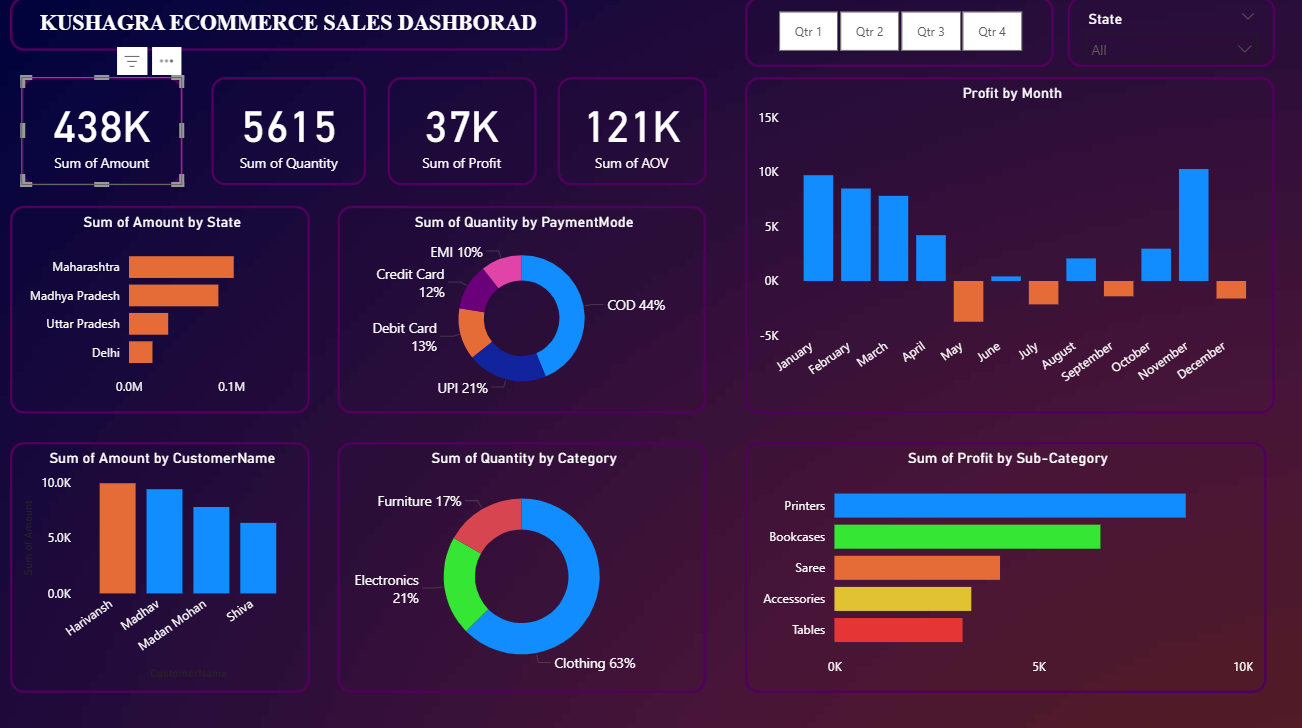

The page's visual inventory and layout, read from the dashboard file:
{"tool":"powerbi","page":{"name":"Page 1","canvas":[1280,720],"ordinal":0},"visuals":[{"type":"textbox","box":[9.8,0,547.2,52.8],"z":0},{"type":"columnChart","title":"Profit by Month","fields":{"Category":["Orders (1).Order Date.Variation.Date Hierarchy.Month"],"Y":["Sum(Details (1).Profit)"]},"box":[731.3,78.5,520.2,330.1],"z":1000},{"type":"barChart","fields":{"Category":["Details (1).Sub-Category"],"Y":["Sum(Details (1).Profit)"]},"box":[731.3,436.8,511.7,246.6],"z":2000},{"type":"donutChart","fields":{"Category":["Details (1).Category"],"Y":["Sum(Details (1).Quantity)"]},"box":[331.3,436.8,362,246.6],"z":3000},{"type":"donutChart","fields":{"Y":["Sum(Details (1).Quantity)"],"Category":["Details (1).PaymentMode"]},"box":[331.3,204.9,362,203.7],"z":4000},{"type":"card","fields":{"Values":["Sum(Details (1).Amount)"]},"box":[20.9,78.5,158.3,106.7],"z":5000},{"type":"card","fields":{"Values":["Sum(Details (1).Quantity)"]},"box":[207.4,78.5,152.1,106.7],"z":6000},{"type":"card","fields":{"Values":["Sum(Details (1).Profit)"]},"box":[380.4,78.5,146,106.7],"z":7000},{"type":"card","fields":{"Values":["Sum(Details (1).AOV)"]},"box":[547.2,78.5,146,106.7],"z":8000},{"type":"barChart","fields":{"Category":["Orders (1).State"],"Y":["Sum(Details (1).Amount)"]},"box":[9.8,204.9,294.5,203.7],"z":9000},{"type":"columnChart","fields":{"Category":["Orders (1).CustomerName"],"Y":["Sum(Details (1).Amount)"]},"box":[9.8,436.8,294.5,246.6],"z":10000},{"type":"slicer","fields":{"Values":["Orders (1).Order Date.Variation.Date Hierarchy.Quarter"]},"box":[731.3,0,303.1,68.7],"z":11000},{"type":"slicer","fields":{"Values":["Orders (1).State"]},"box":[1047.9,0,203.7,68.7],"z":12000}]}

Visuals, with their boxes in screenshot pixels (x1, y1, x2, y2), scaled from the page's 1280x720 canvas onto the 1302x728 screenshot:
textbox: box(10, 0, 567, 53)
"Profit by Month" columnChart: box(744, 79, 1273, 413)
barChart - Details (1).Sub-Category x Sum(Details (1).Profit): box(744, 442, 1264, 691)
donutChart - Details (1).Category x Sum(Details (1).Quantity): box(337, 442, 705, 691)
donutChart - Sum(Details (1).Quantity) x Details (1).PaymentMode: box(337, 207, 705, 413)
card - Sum(Details (1).Amount): box(21, 79, 182, 187)
card - Sum(Details (1).Quantity): box(211, 79, 366, 187)
card - Sum(Details (1).Profit): box(387, 79, 535, 187)
card - Sum(Details (1).AOV): box(557, 79, 705, 187)
barChart - Orders (1).State x Sum(Details (1).Amount): box(10, 207, 310, 413)
columnChart - Orders (1).CustomerName x Sum(Details (1).Amount): box(10, 442, 310, 691)
slicer - Orders (1).Order Date.Variation.Date Hierarchy.Quarter: box(744, 0, 1052, 69)
slicer - Orders (1).State: box(1066, 0, 1273, 69)
